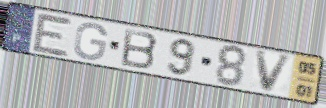8: (213, 44, 249, 89)
9: (165, 37, 198, 78)
B: (119, 27, 160, 72)
E: (31, 10, 75, 59)
G: (71, 21, 110, 62)
V: (254, 50, 295, 94)
